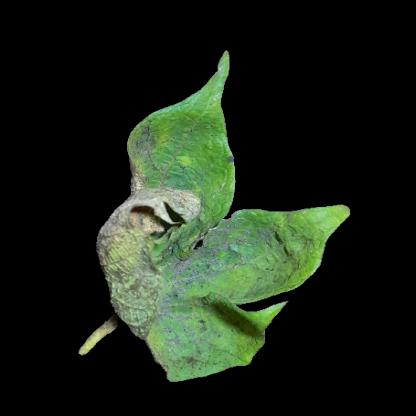curl_stage1: (162, 116, 225, 172), (238, 311, 264, 361), (307, 210, 339, 232)
curl_stage2: (101, 225, 147, 270)
sooty: (152, 301, 236, 371), (174, 231, 258, 285), (261, 219, 295, 259), (134, 126, 162, 172)
